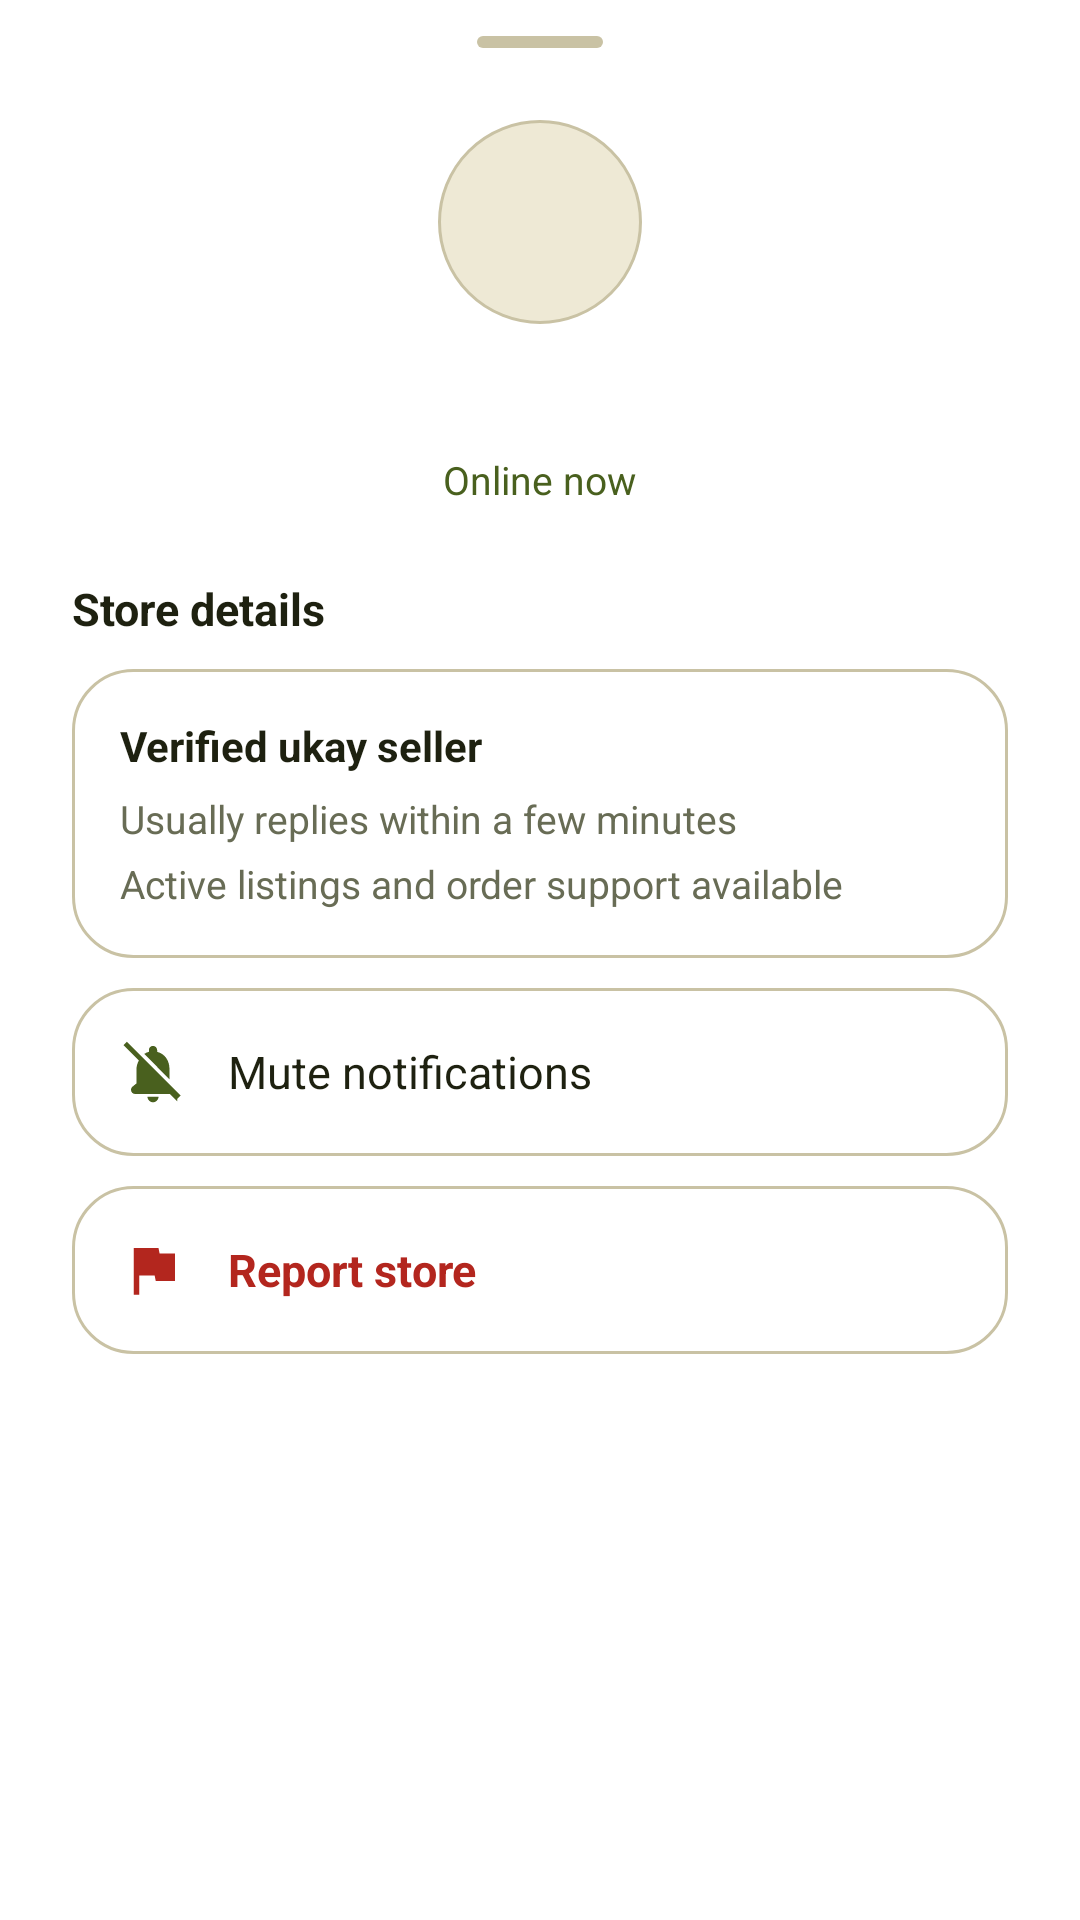

Where icons sit on this 1080 x 1920 app screen, as (x1, y1, x2, y2):
flag: (133, 1248, 175, 1295)
notifications off: (123, 1042, 181, 1103)
